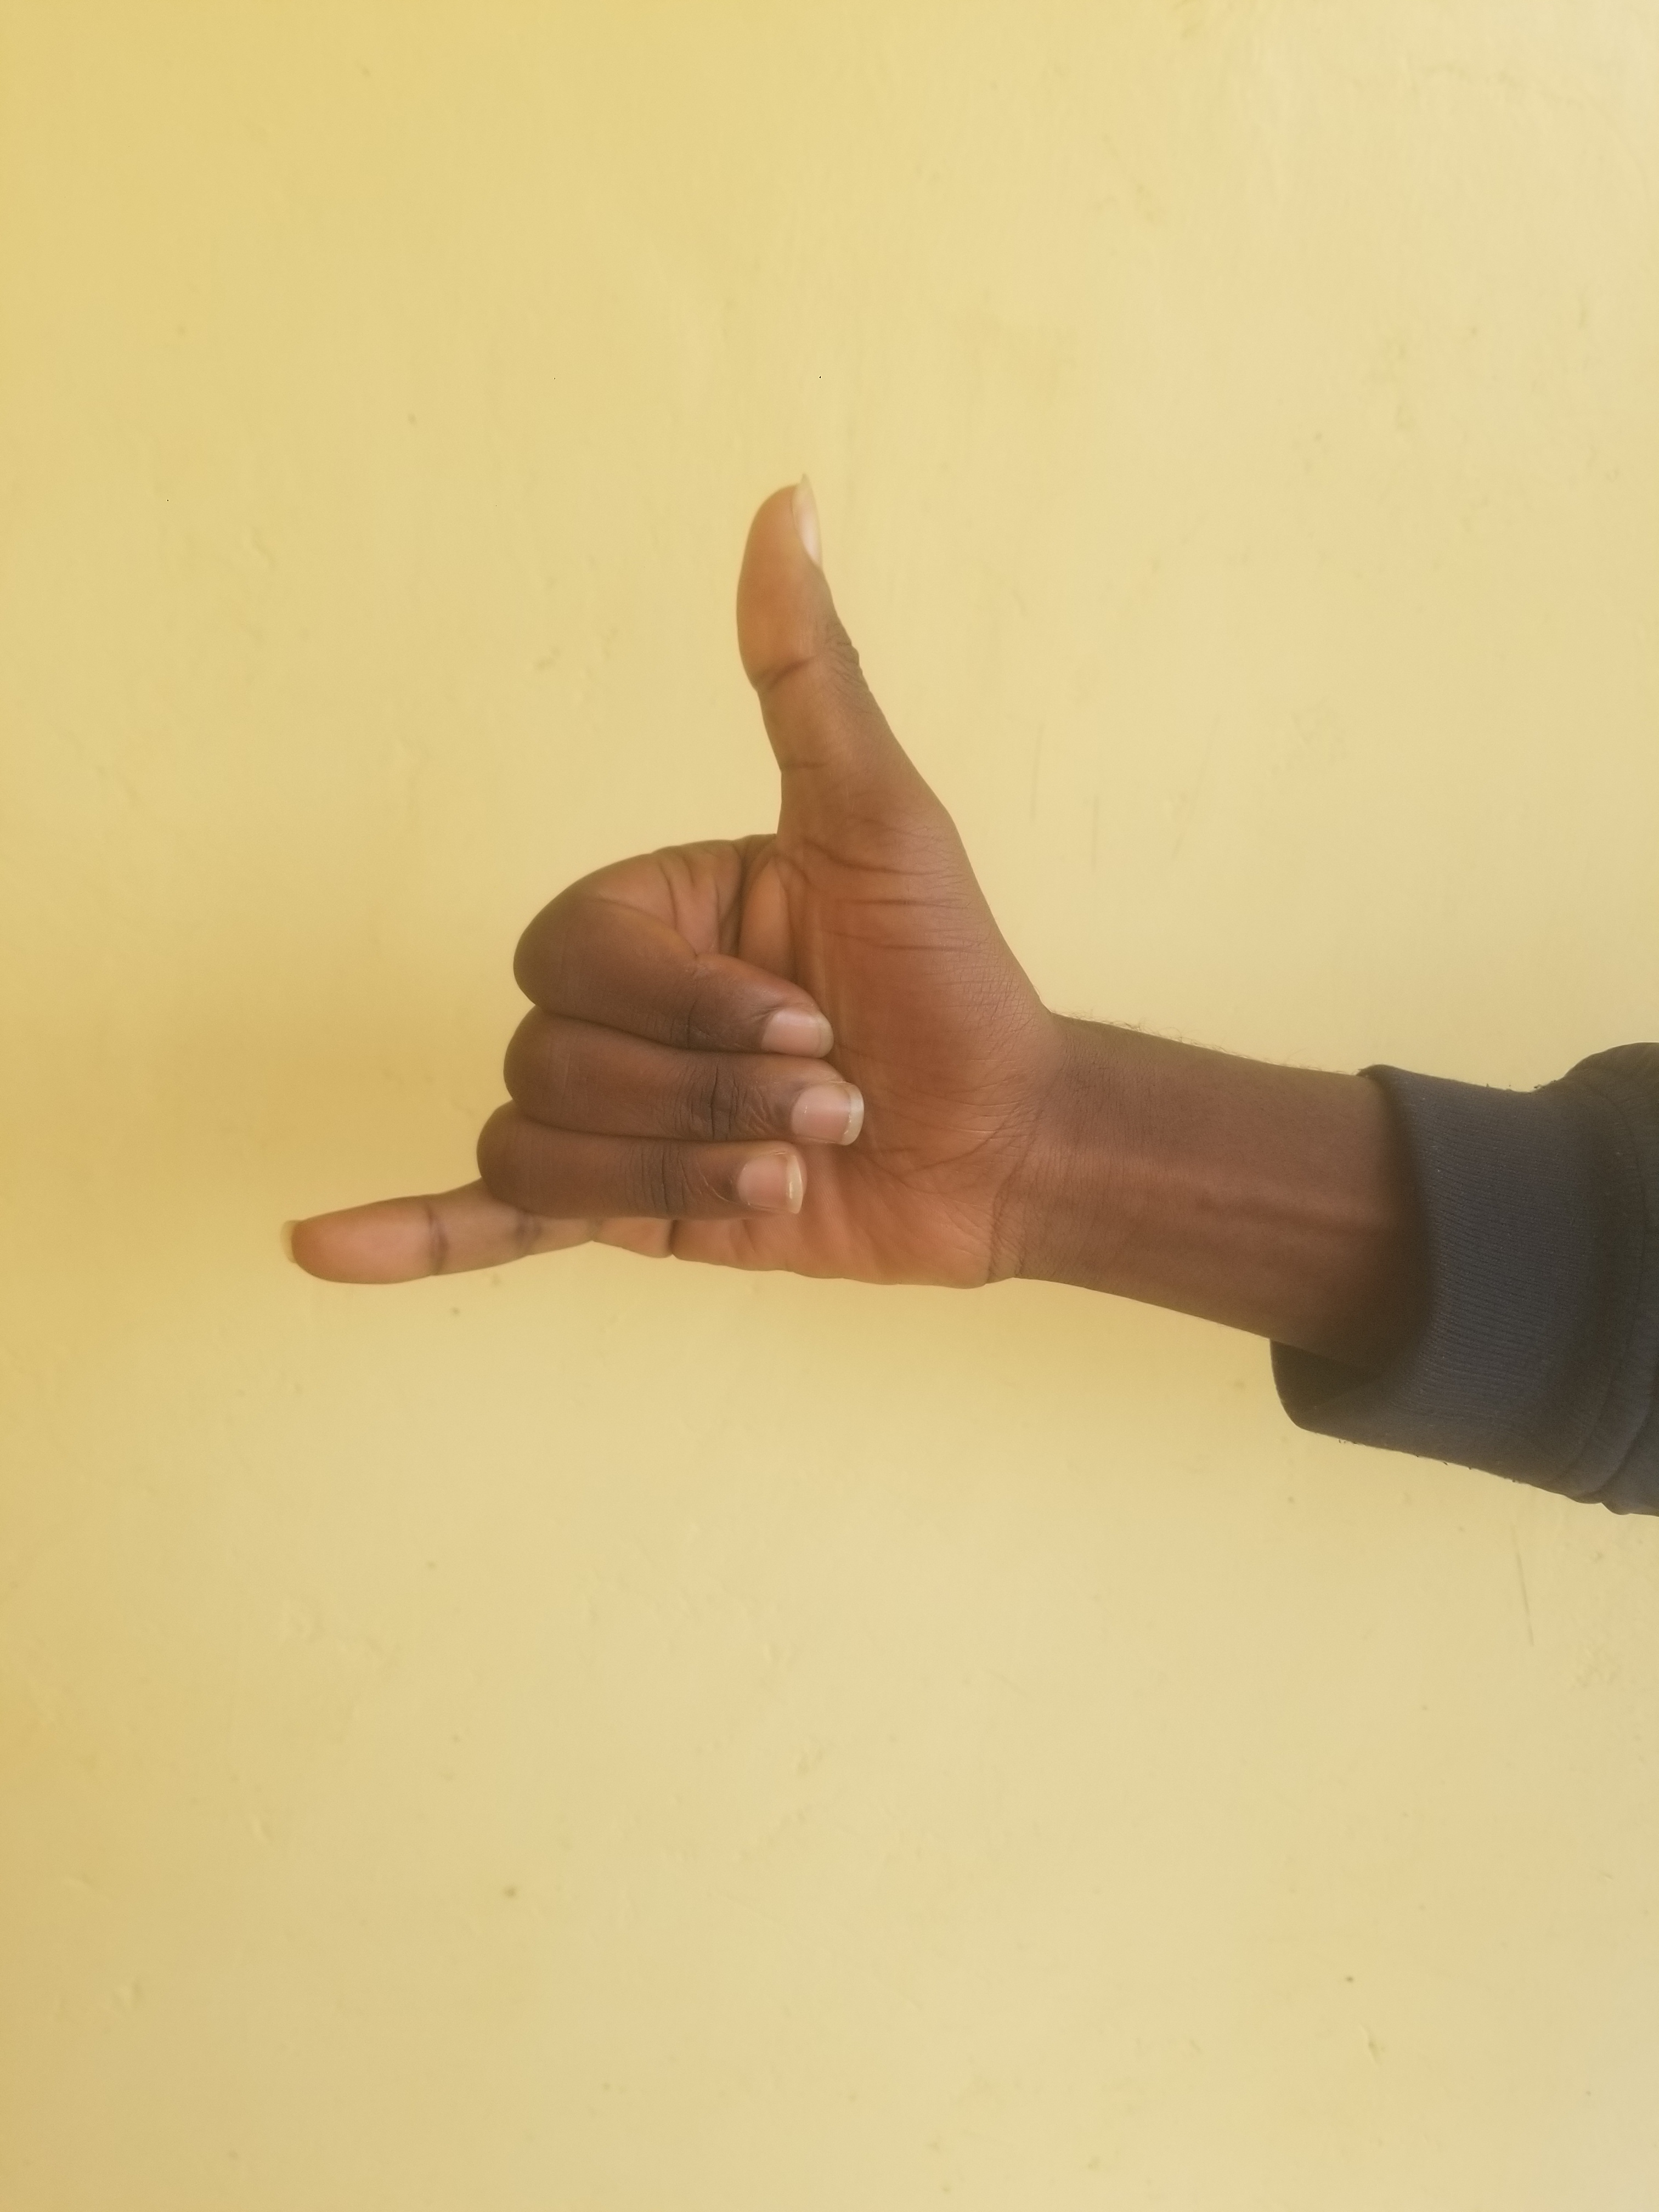call: (326, 242, 1234, 1743)
